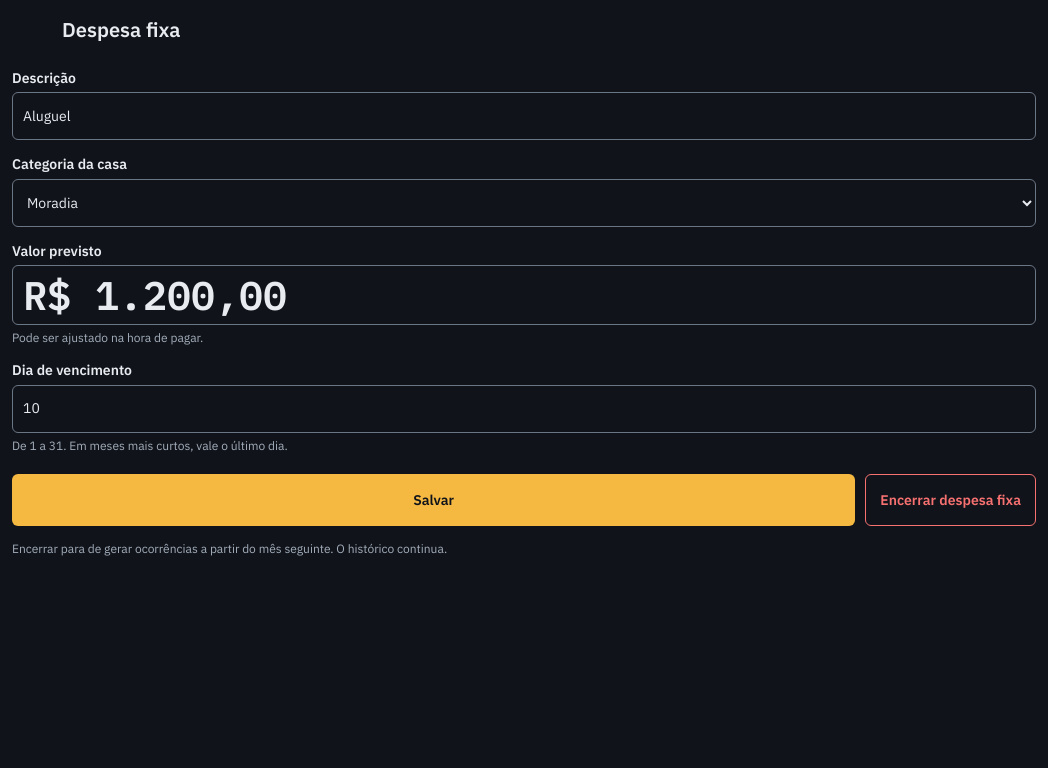
Test: DespesaFixa: validação › dia "3a" mostra "Use um dia de 1 a 31." e a ajuda reduzida
Replace the text in the field labelled "Dia de vencimento" with "3a": [524, 409] box [12, 385, 1036, 433]
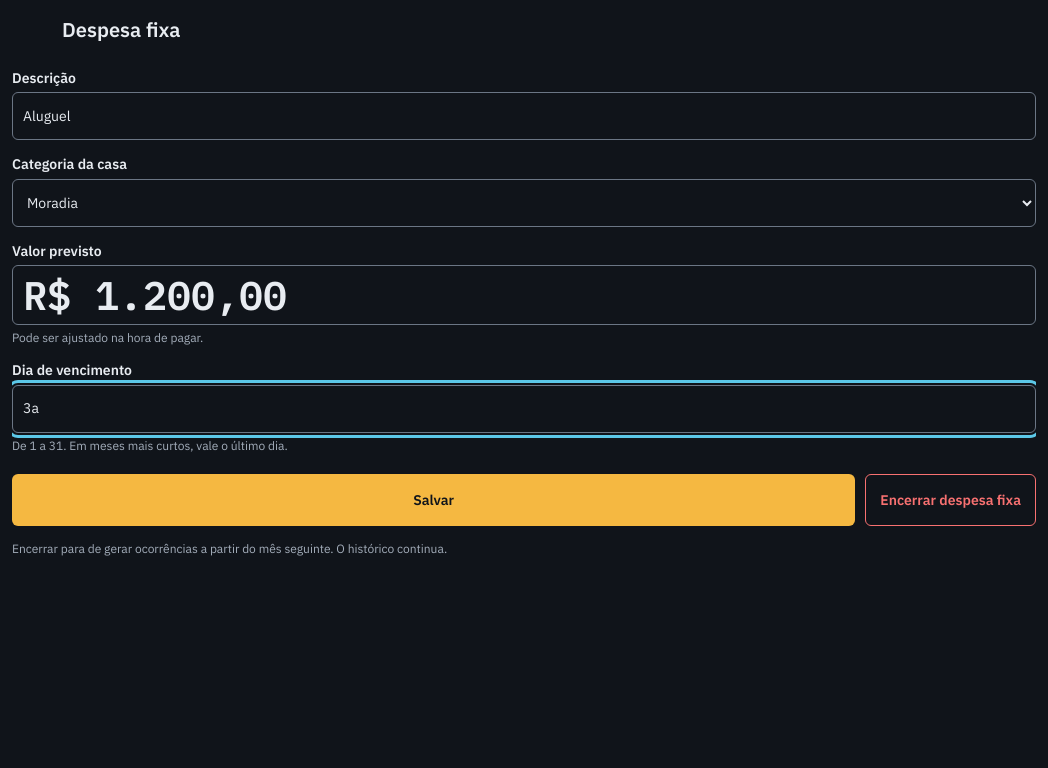
Click the button "Salvar": [434, 500] box [12, 474, 855, 526]
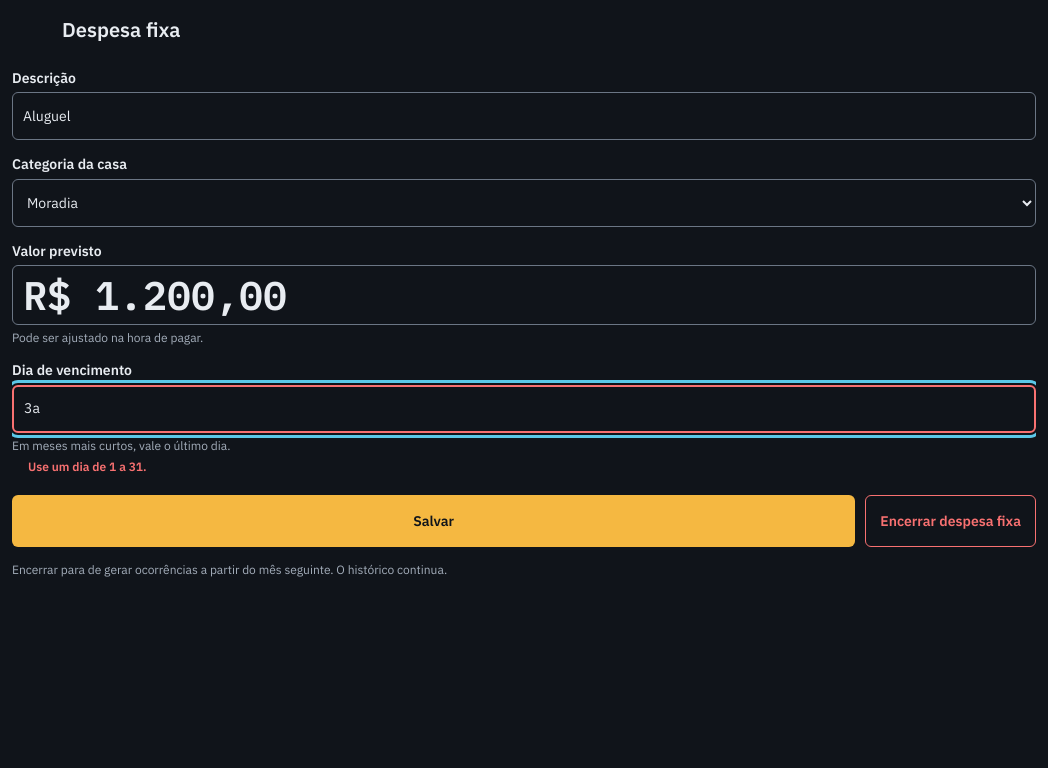
Check: the text "Em meses mais curtos, vale o último dia." is shown, box [12, 438, 231, 453]
Check: the text "Use um dia de 1 a 31." is shown, box [12, 459, 147, 474]
Check: the text "De 1 a 31. Em meses mais curtos, vale o último dia." is gone
